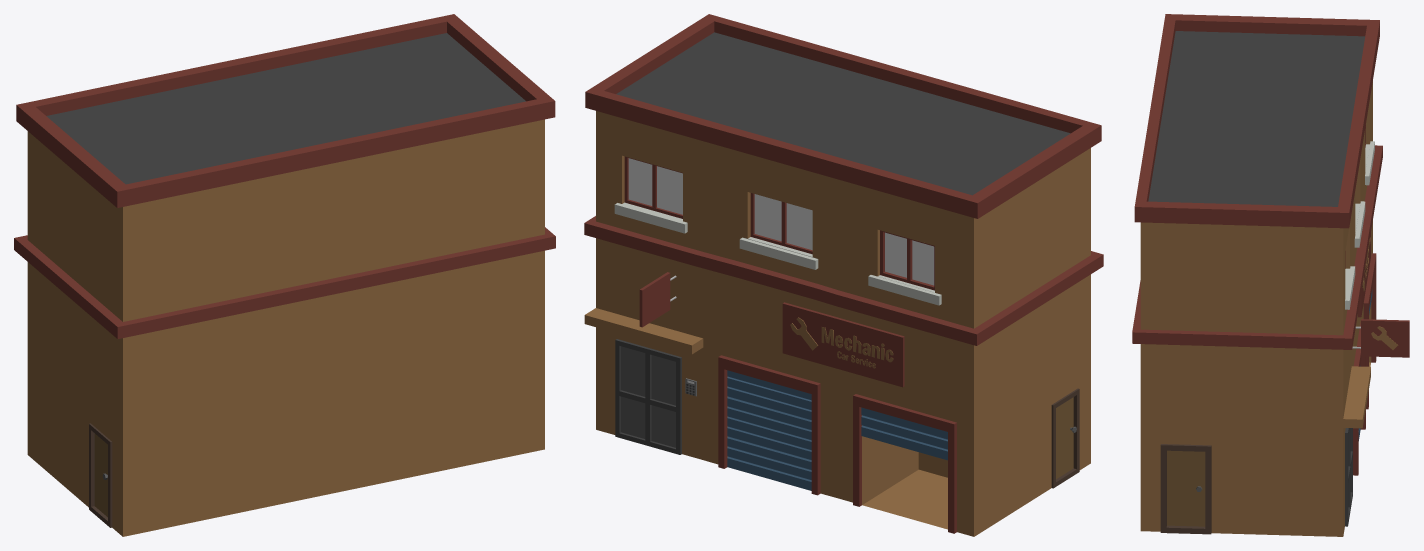
The model's file is Mechanic.fbx.
3 renders of one model, left to right at view 1: azimuth 30°, elevation 25°; view 2: azimuth 150°, elevation 25°; view 3: azimuth 270°, elevation 25°, orthographic. The views are drawn at different scales.
Visible parts, largest first — view 1: Mechanic; view 2: Mechanic; view 3: Mechanic.
Boxes of the visible parts, x1=… form: Mechanic: x1=14, y1=14, x2=555, y2=536; Mechanic: x1=584, y1=14, x2=1103, y2=536; Mechanic: x1=1132, y1=14, x2=1409, y2=536.
Size of the model in its own units: 2418 by 1422 by 1851.
